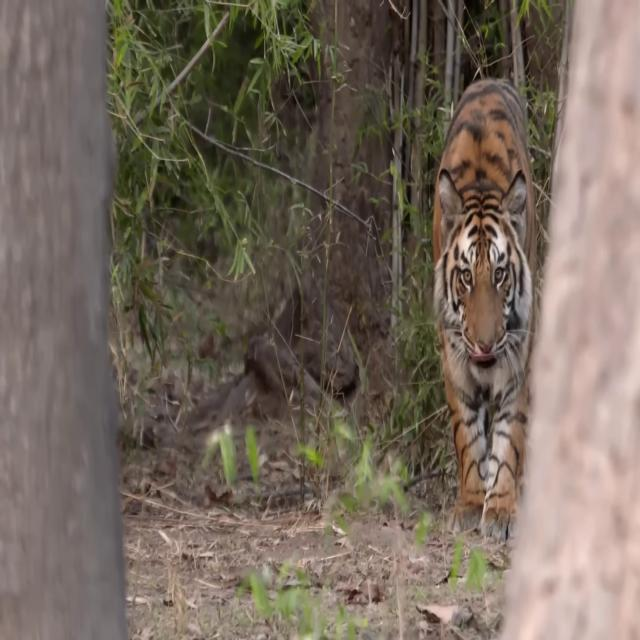tiger: (432, 76, 537, 544)
